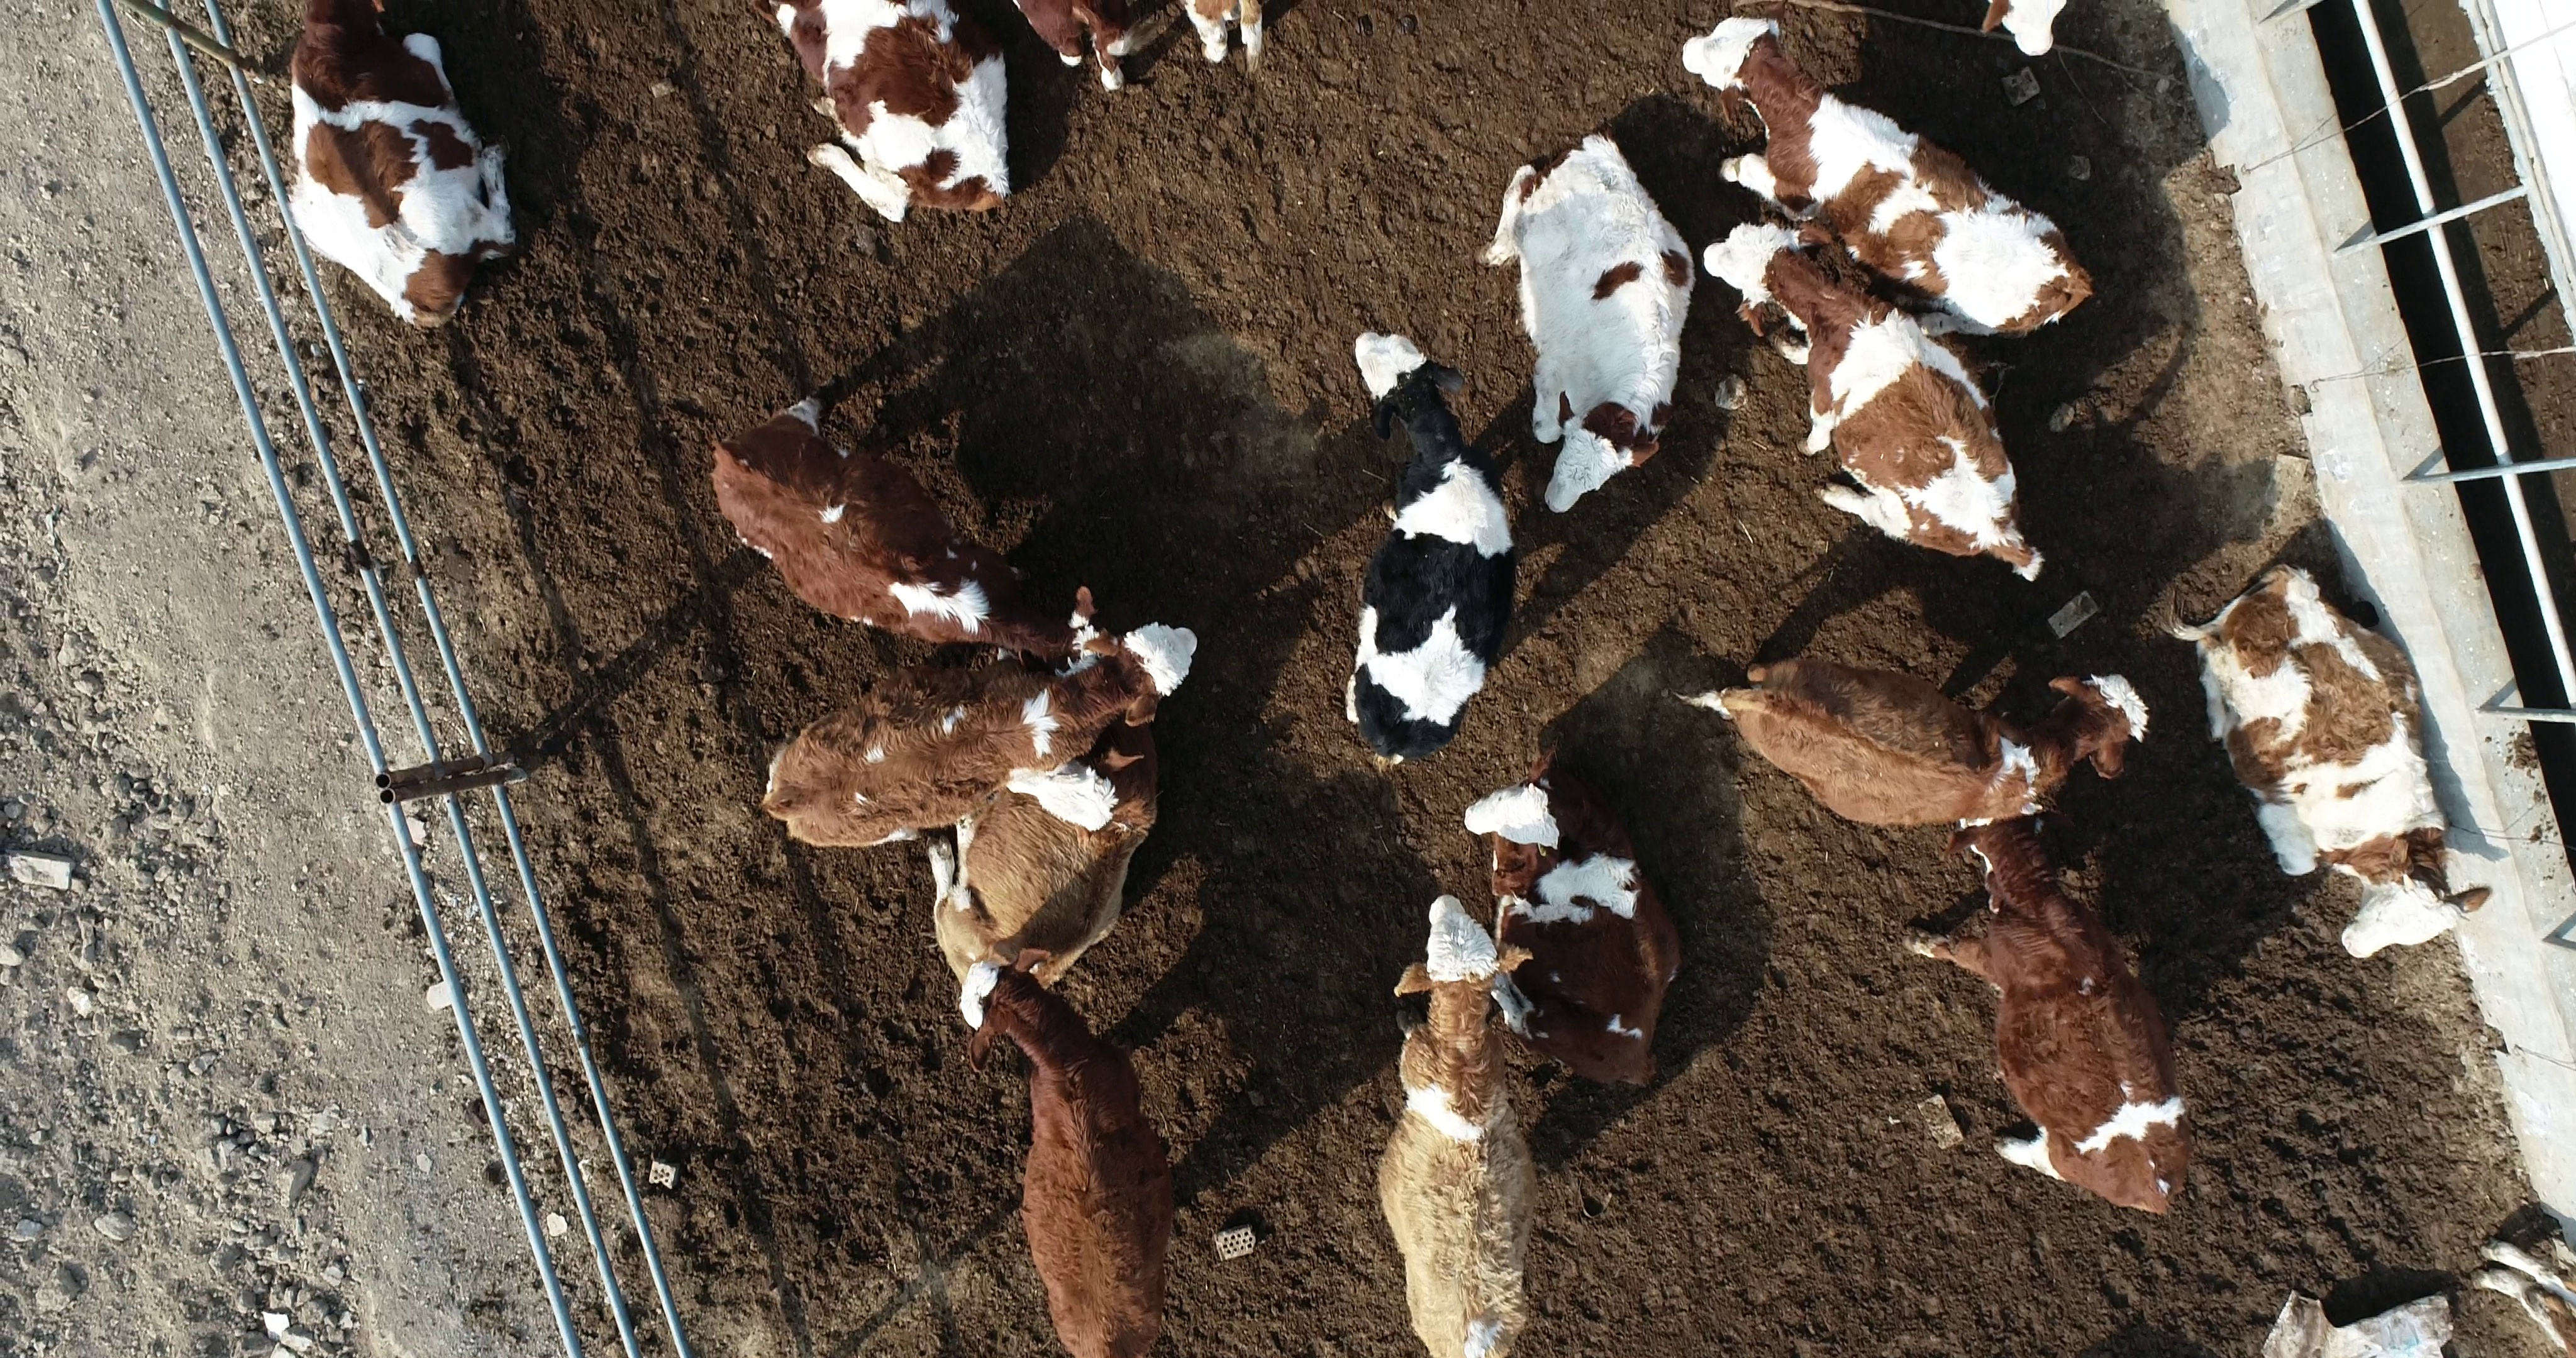cattle: (2157, 549, 2496, 963), (1675, 15, 2102, 342), (1702, 211, 2048, 583), (1893, 813, 2203, 1227), (695, 383, 1136, 665), (753, 619, 1205, 854), (951, 954, 1179, 1358), (1469, 123, 1699, 518), (1668, 656, 2159, 825), (1343, 319, 1521, 767), (1375, 891, 1542, 1356)
